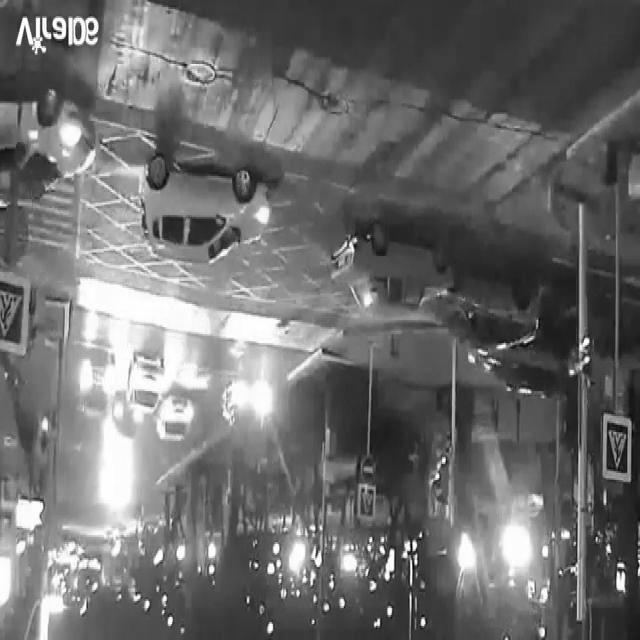moderate: (323, 220, 542, 364)
